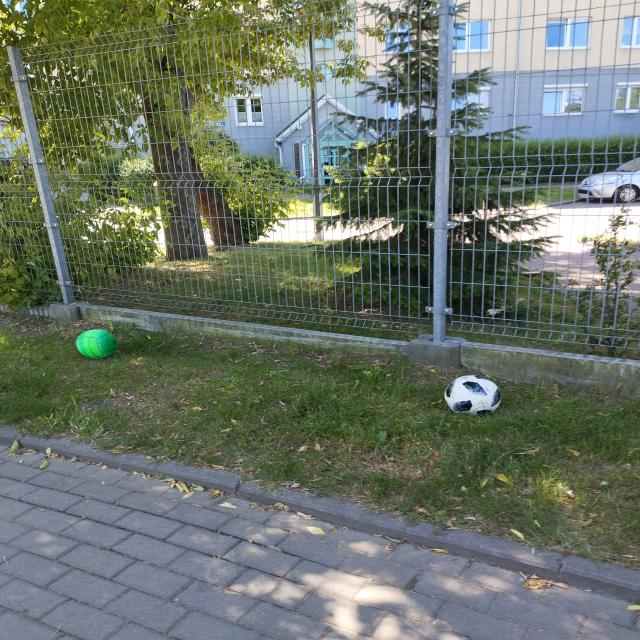nozna: (445, 375, 501, 415)
zielona: (76, 329, 117, 359)
